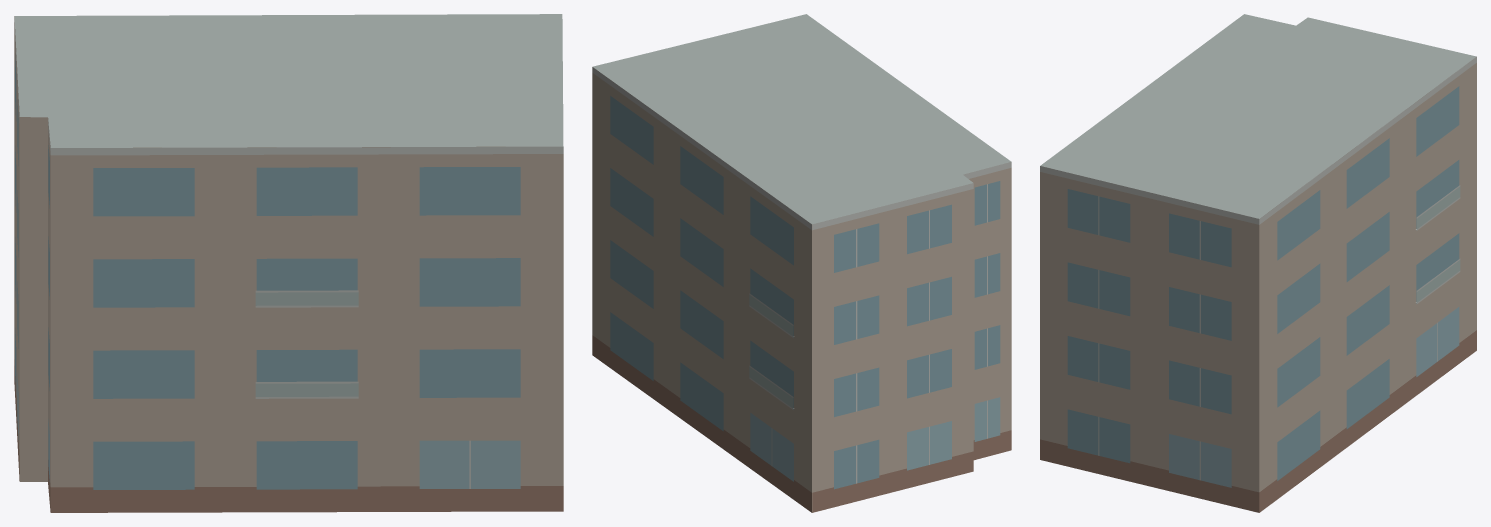
Rendered from survey-upis-32946337.glb.
3 views of the same model, side by side, from view 1: azimuth 30°, elevation 25°; view 2: azimuth 150°, elevation 25°; view 3: azimuth 270°, elevation 25° (orthographic). The views are drawn at different scales.
Parts seen in each view (by area): view 1: survey-upis-32946337.tmp; view 2: survey-upis-32946337.tmp; view 3: survey-upis-32946337.tmp.
Part boxes in pixels (box(x1,y1,x2,y2)): survey-upis-32946337.tmp: box(14, 14, 563, 512); survey-upis-32946337.tmp: box(592, 14, 1011, 512); survey-upis-32946337.tmp: box(1040, 14, 1476, 512).
Size of the model in its own units: 17.95 by 12 by 16.17.
